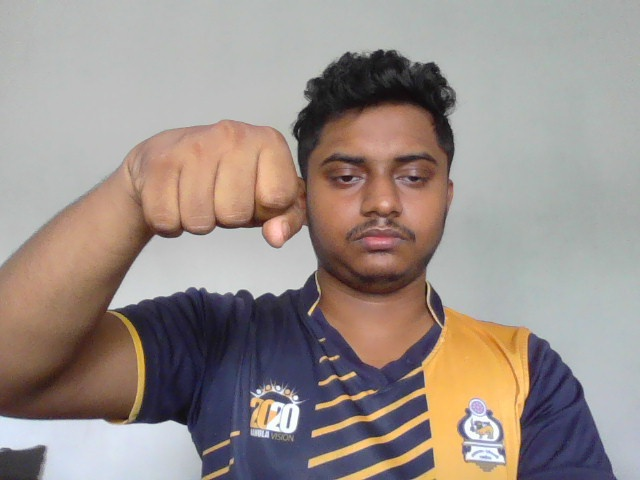Yes: (136, 119, 308, 248)
